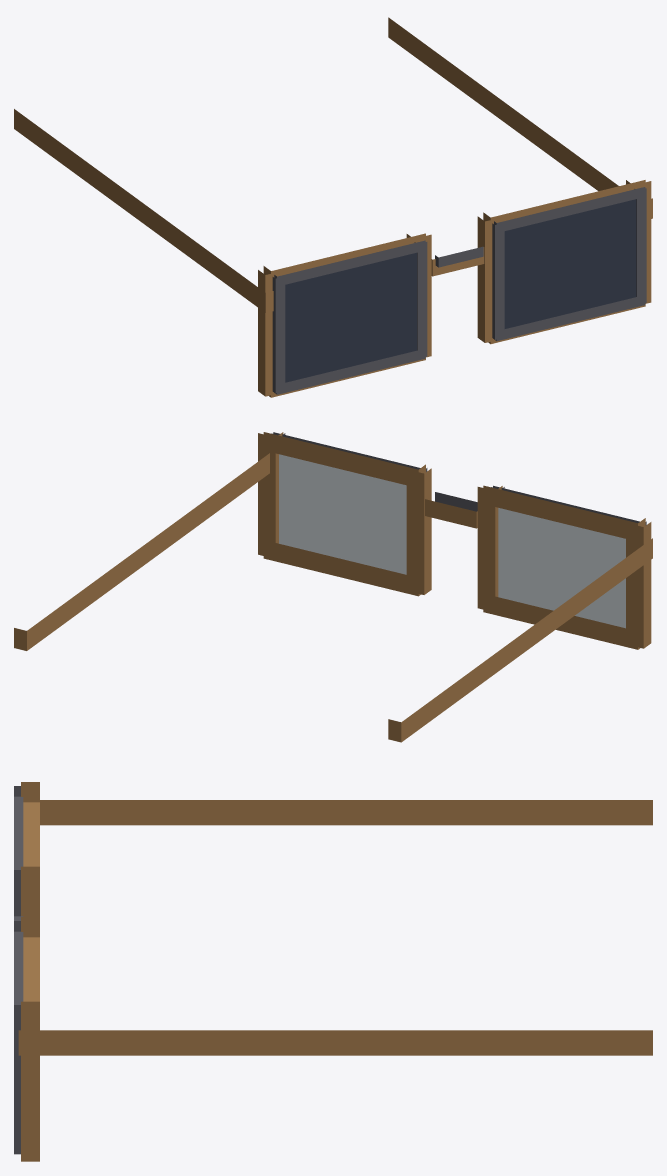
The model's file is square_acetate_clip.glb.
3 renders of one model, top to bottom at view 1: azimuth 30°, elevation 25°; view 2: azimuth 150°, elevation 25°; view 3: azimuth 270°, elevation 25°, orthographic. The views are drawn at different scales.
Visible parts, largest first — view 1: ClipOn_Polarized_Lenses_Node, Square_Base_Frame_Node, ClipOn_Metal_Frame_Node; view 2: Square_Base_Frame_Node, Square_Clear_Lenses_Node, ClipOn_Metal_Frame_Node; view 3: Square_Base_Frame_Node, ClipOn_Metal_Frame_Node.
Part boxes in pixels (x1,y1,x2,y2): ClipOn_Polarized_Lenses_Node: (285, 199, 636, 382); Square_Base_Frame_Node: (14, 17, 652, 397); ClipOn_Metal_Frame_Node: (272, 187, 646, 394); Square_Base_Frame_Node: (14, 432, 652, 742); Square_Clear_Lenses_Node: (279, 454, 625, 628); ClipOn_Metal_Frame_Node: (271, 432, 646, 525); Square_Base_Frame_Node: (18, 782, 652, 1161); ClipOn_Metal_Frame_Node: (14, 786, 23, 1154).
Size of the model in its own units: 120 by 37.5 by 136.
